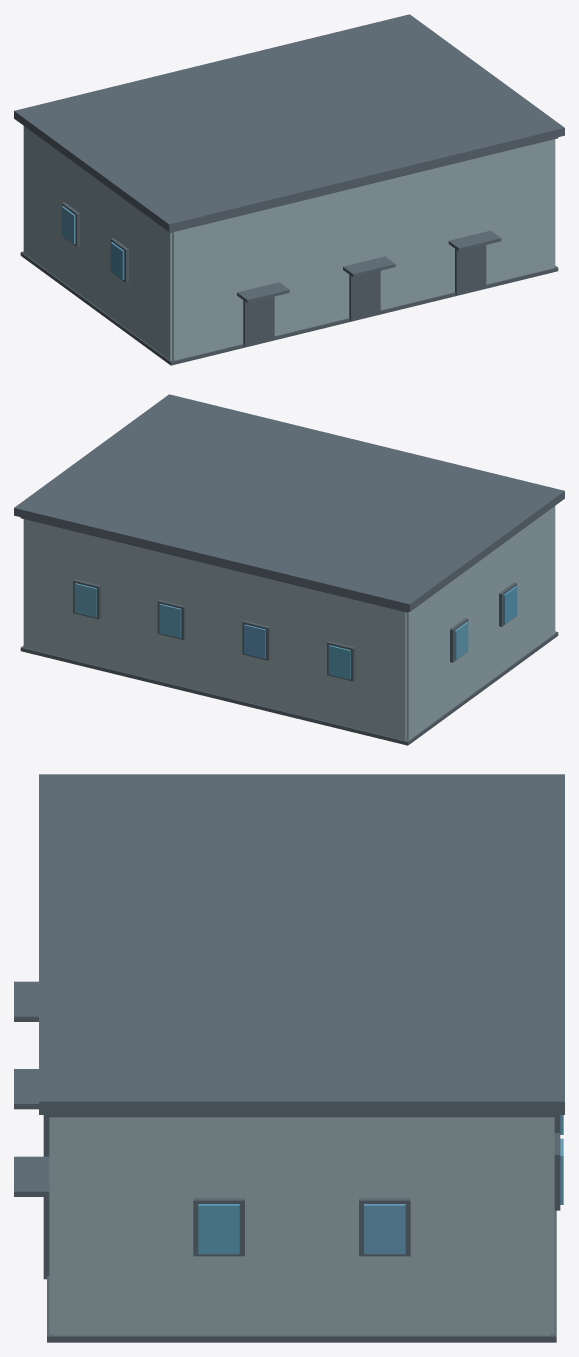
The model's file is warehouse.glb.
The picture shows the model from 3 angles, top to bottom: view 1: azimuth 30°, elevation 25°; view 2: azimuth 150°, elevation 25°; view 3: azimuth 270°, elevation 25°; orthographic projection. The views are drawn at different scales.
Parts seen in each view (by area): view 1: FormLab; view 2: FormLab; view 3: FormLab.
Part boxes in pixels (left/top/right/bottom): FormLab: left=14, top=14, right=564, bottom=365; FormLab: left=14, top=394, right=564, bottom=745; FormLab: left=14, top=774, right=564, bottom=1342.
Size of the model in its own units: 18.7 by 6.51 by 13.3.
